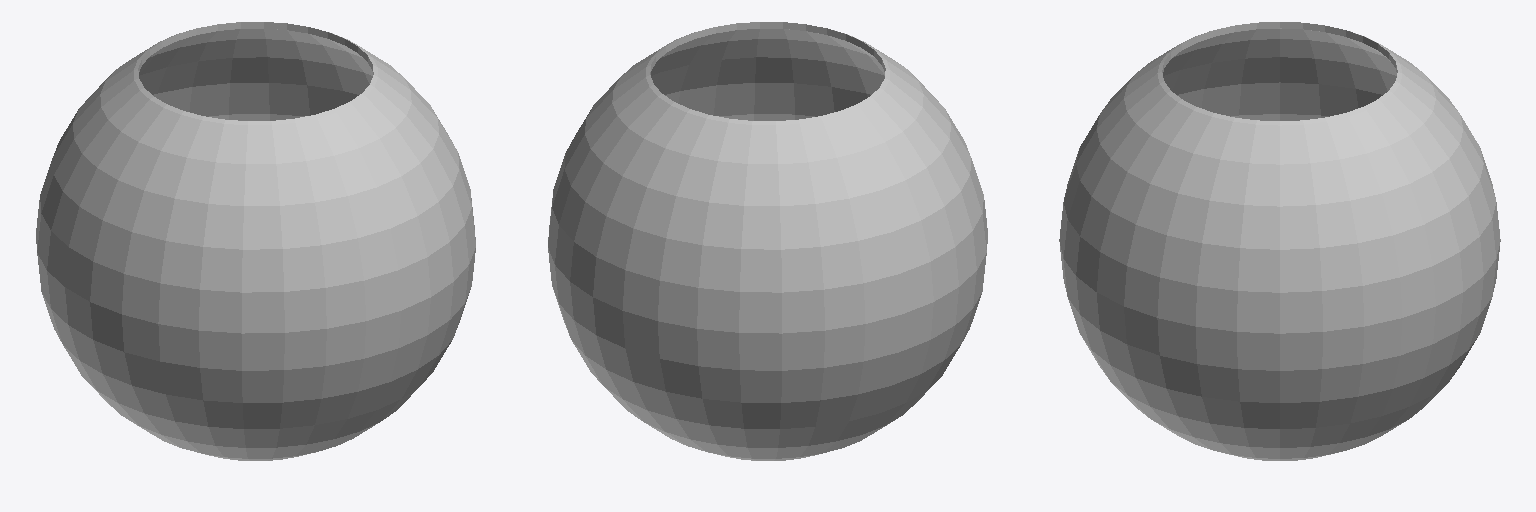
File: shell.obj
The picture shows the model from 3 angles: view 1: azimuth 30°, elevation 25°; view 2: azimuth 150°, elevation 25°; view 3: azimuth 270°, elevation 25°; orthographic projection.
Parts seen in each view (by area): view 1: Sphere; view 2: Sphere; view 3: Sphere.
Boxes of the visible parts, x1,y1,x2,y2 form: Sphere: [36, 22, 475, 460]; Sphere: [548, 22, 987, 460]; Sphere: [1059, 22, 1500, 460].
Size of the model in its own units: 1.99 by 1.84 by 1.99.